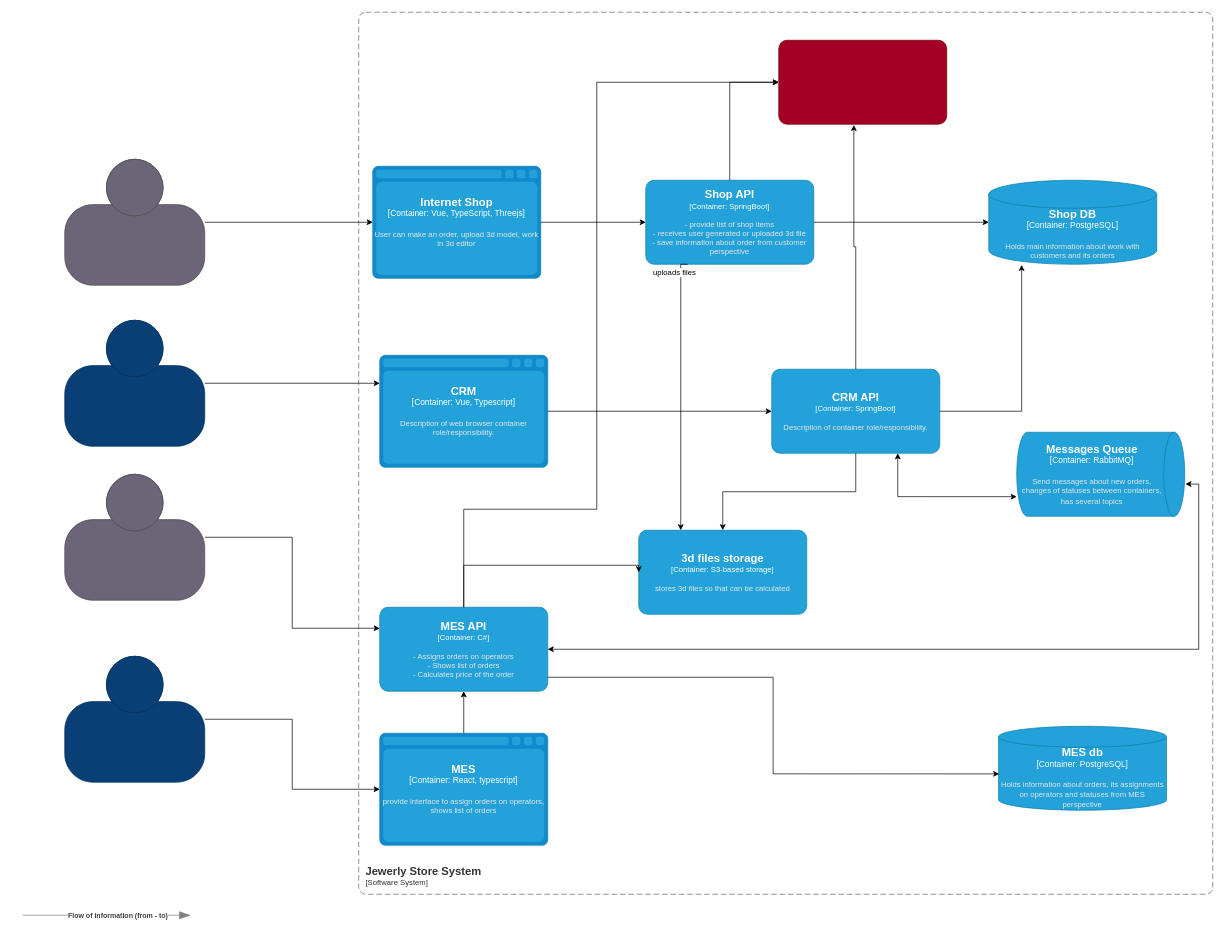
This 1225x939 diagram has some shape labels left out. The shapes that lost their labels are listed below. From the top down, each one's centre as x and y in pixels, then its label:
point (862, 82): Jaeger [Container: ] OpenTelemetry Collector & UI
point (134, 222): Customer [Person] Description of external person.
point (134, 383): Seller [Person] Operates with order, confirms manufacturing for the user
point (134, 537): API user [Person] Description of external person.
point (134, 719): Operator [Person] Takes order in work, manufactures jewerly
